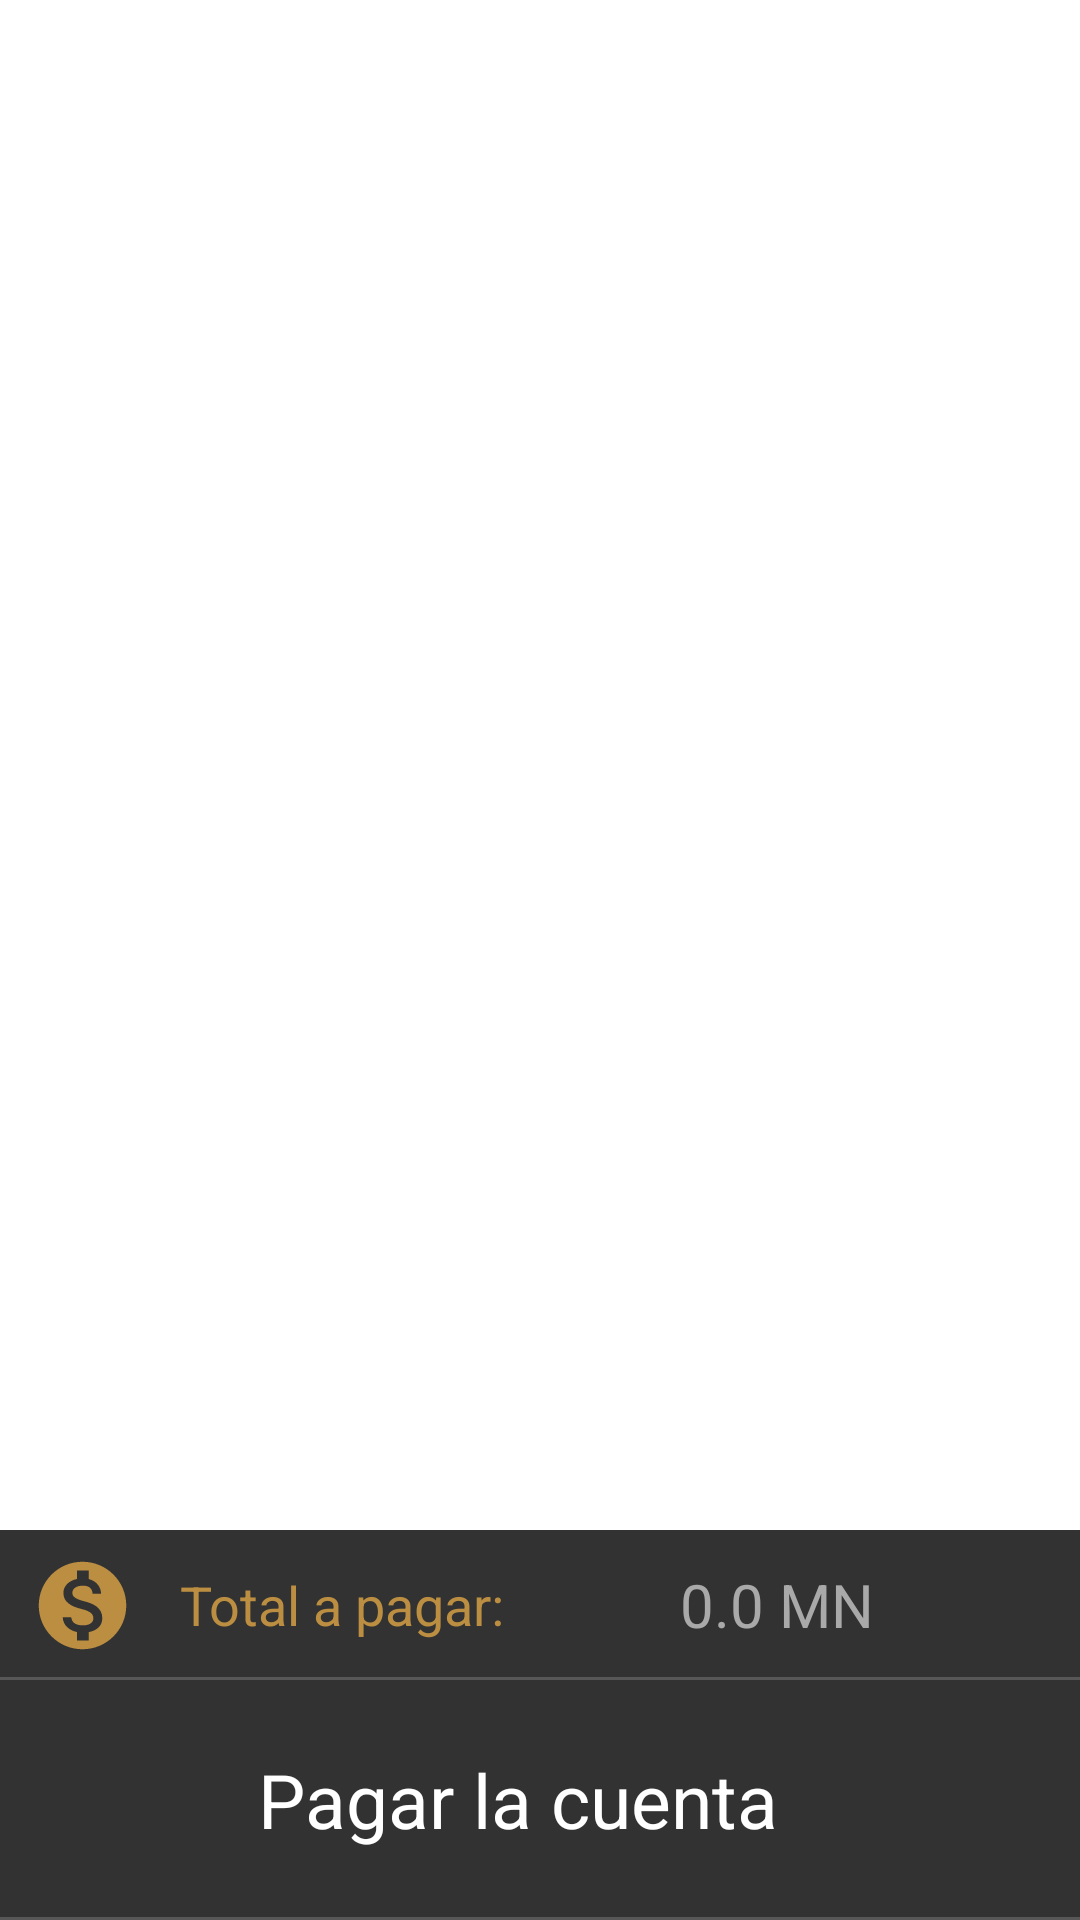

Icon bounding boxes for this 1080 × 1920 phone screenshot, format (x1, y1, x2, y2):
monetization on: (38, 1561, 127, 1650)
